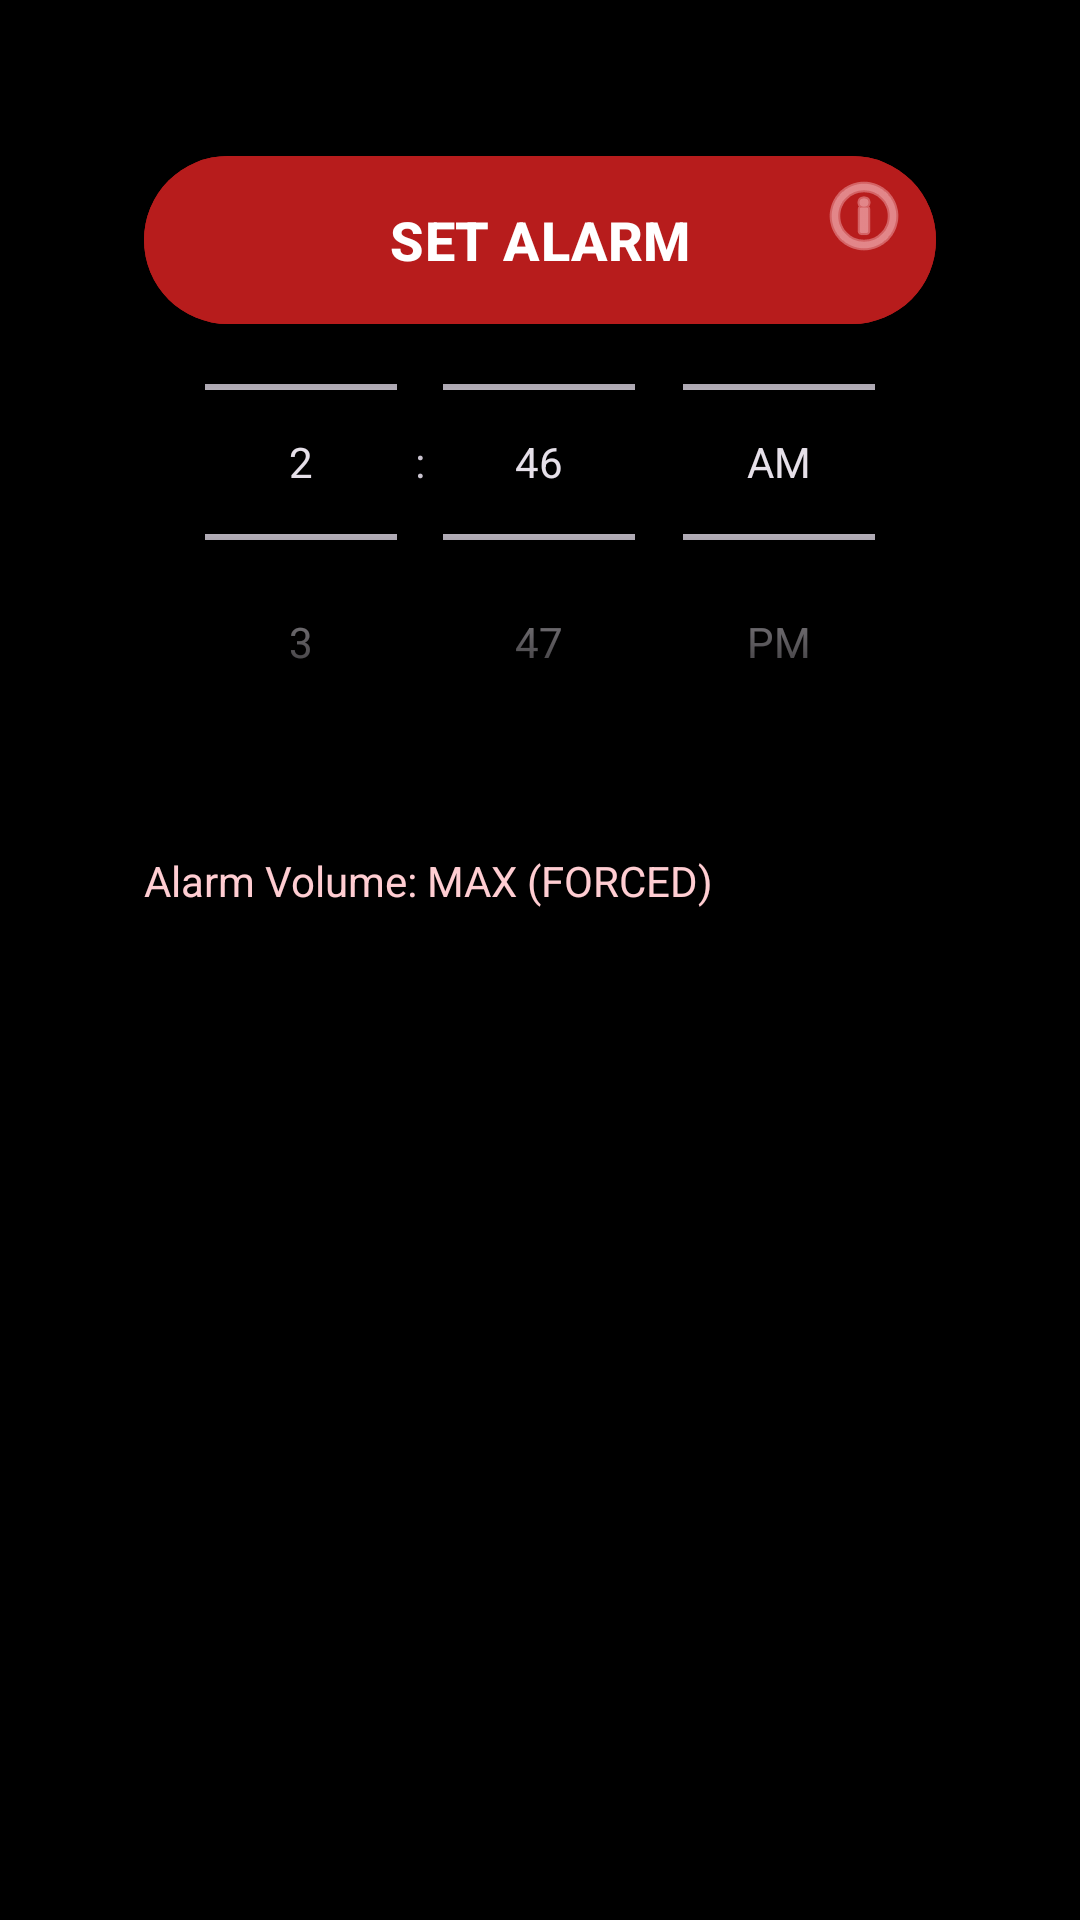

Point at icon controls on the screen. Image size 1080 × 1920, points as point (x, y).
info details: point (864, 216)
